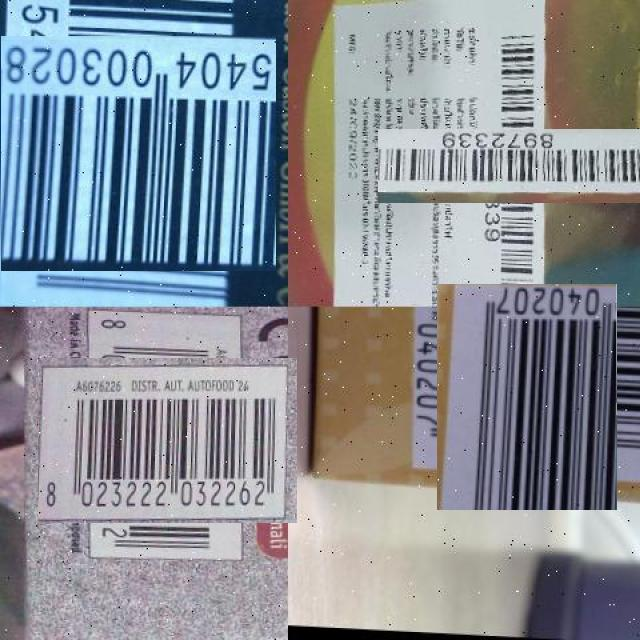Barcode: (0, 17, 258, 289), (61, 334, 274, 547), (425, 295, 628, 498), (429, 77, 608, 255)
